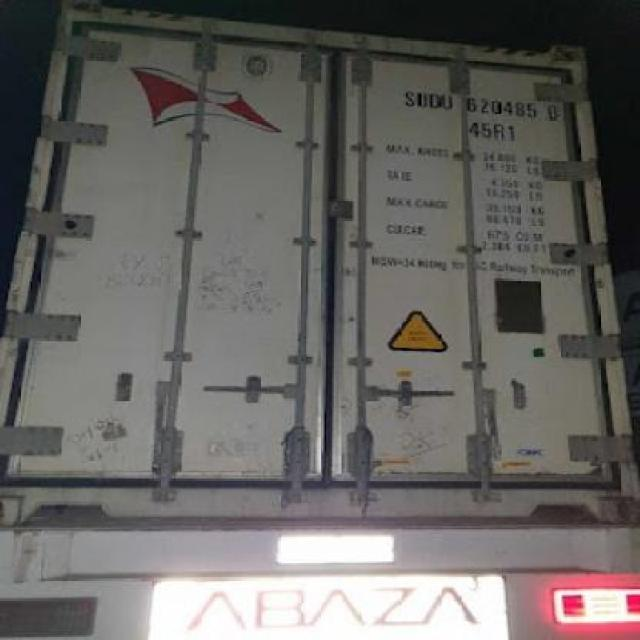ISO: (470, 121, 517, 142)
container_number: (405, 88, 563, 118)
